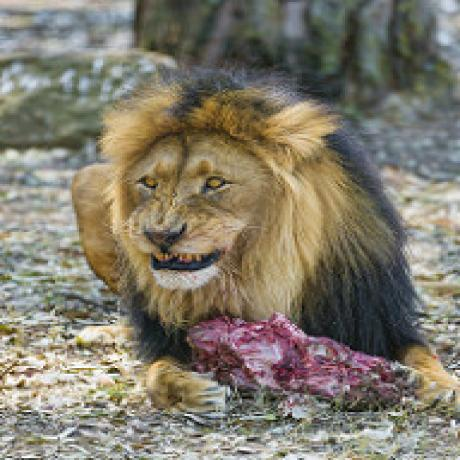Lion: (66, 61, 456, 417)
